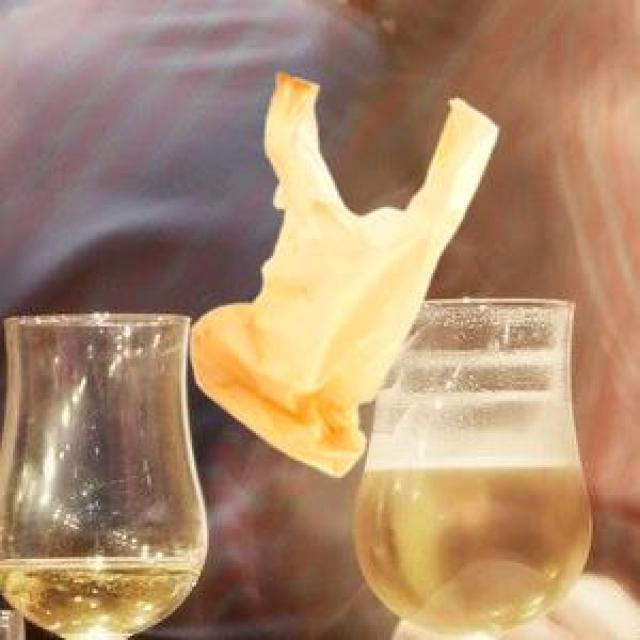waste: (191, 72, 499, 476)
